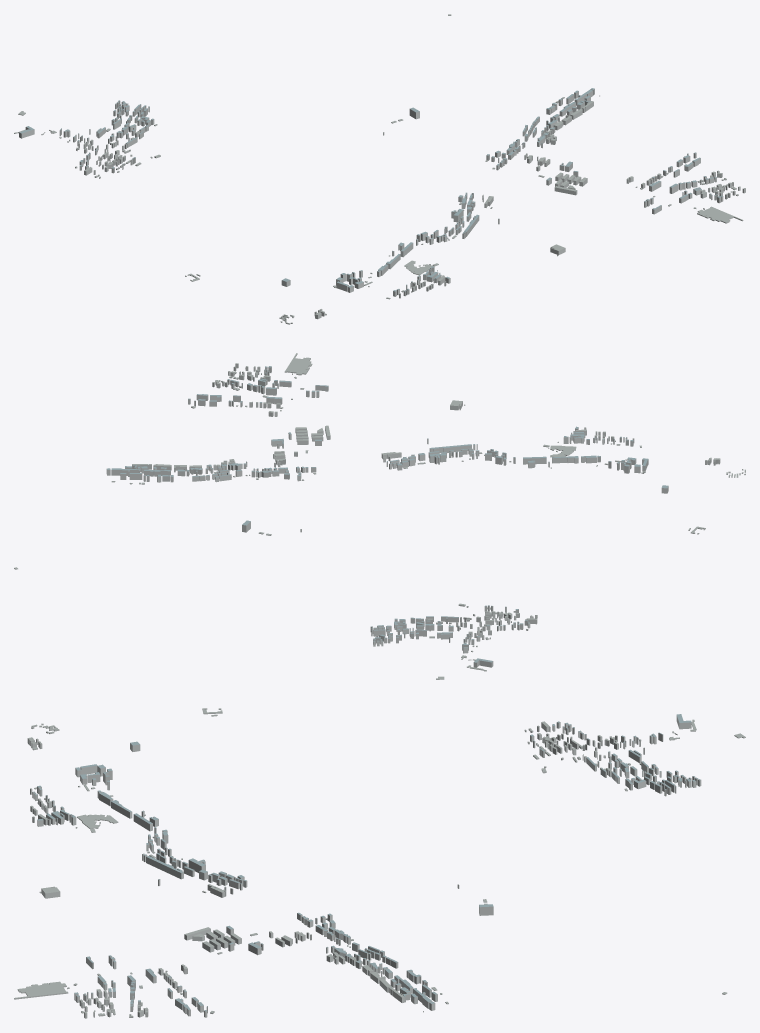
Rendered from far.glb.
3 views of the same model, one above another, from view 1: azimuth 30°, elevation 25°; view 2: azimuth 150°, elevation 25°; view 3: azimuth 270°, elevation 25° (orthographic). The views are drawn at different scales.
Bounding box in the file's own units: 2099 × 28.5 × 2098.
